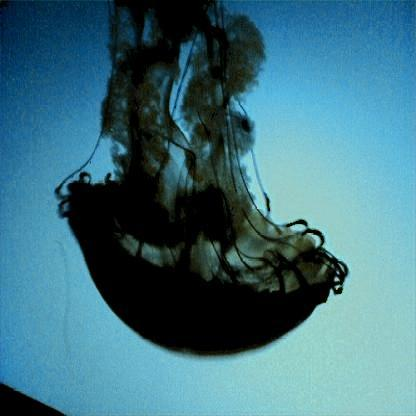Dressed: (56, 12, 346, 359)
